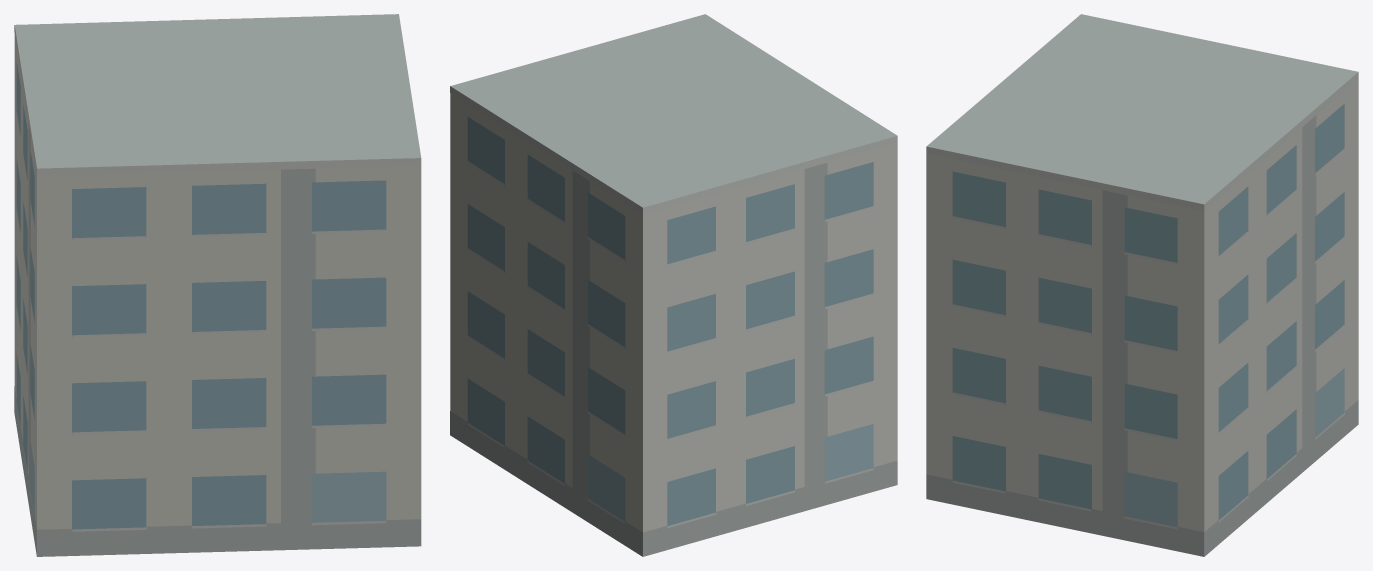
The model's file is residential-61e3e2ee-8b61-48df-a102-e6cd3608c85f.glb.
3 renders of one model, left to right at view 1: azimuth 30°, elevation 25°; view 2: azimuth 150°, elevation 25°; view 3: azimuth 270°, elevation 25°, orthographic. The views are drawn at different scales.
Parts seen in each view (by area): view 1: residential-61e3e2ee-8b61-48df-a102-e6cd3608c85f.tmp; view 2: residential-61e3e2ee-8b61-48df-a102-e6cd3608c85f.tmp; view 3: residential-61e3e2ee-8b61-48df-a102-e6cd3608c85f.tmp.
Part boxes in pixels (x1=…): residential-61e3e2ee-8b61-48df-a102-e6cd3608c85f.tmp: x1=14, y1=14, x2=421, y2=556; residential-61e3e2ee-8b61-48df-a102-e6cd3608c85f.tmp: x1=450, y1=14, x2=897, y2=556; residential-61e3e2ee-8b61-48df-a102-e6cd3608c85f.tmp: x1=926, y1=14, x2=1358, y2=556.
Bounding box in the file's own units: 14.14 × 12.2 × 13.57.
